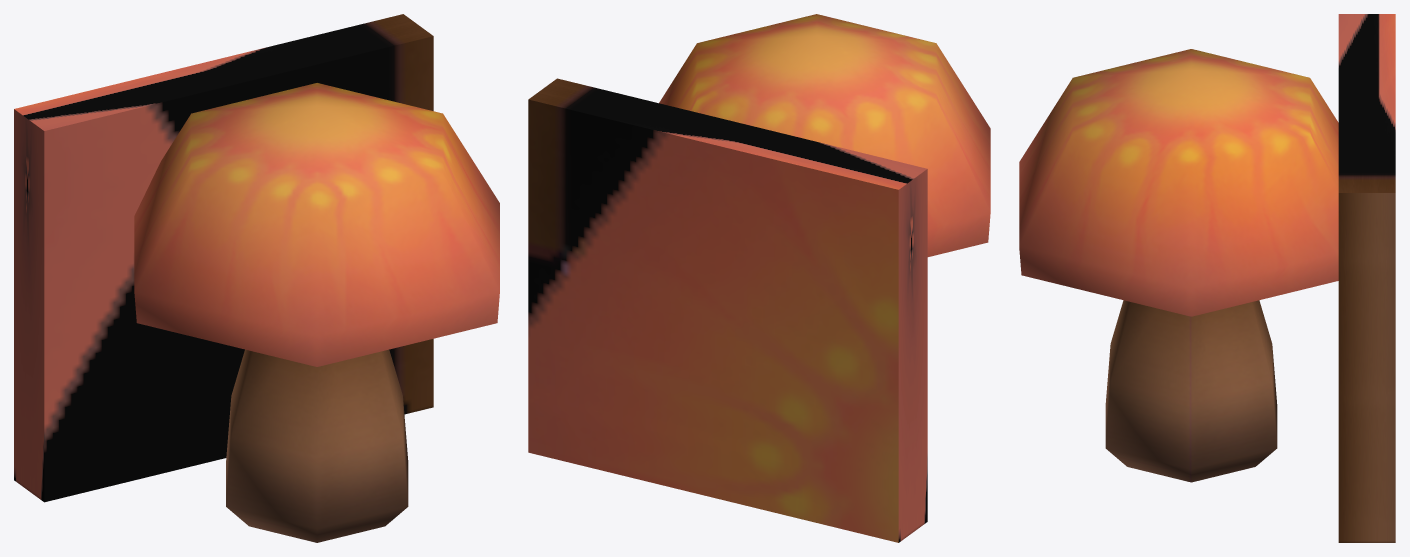
The model's file is MSH_B.fbx.
3 renders of one model, left to right at view 1: azimuth 30°, elevation 25°; view 2: azimuth 150°, elevation 25°; view 3: azimuth 270°, elevation 25°, orthographic. The views are drawn at different scales.
Visible parts, largest first — view 1: mushroomB, pCube1; view 2: pCube1, mushroomB; view 3: mushroomB, pCube1.
Boxes of the visible parts, bbox=[...] form: mushroomB: bbox=[134, 83, 499, 542]; pCube1: bbox=[14, 14, 433, 502]; pCube1: bbox=[528, 78, 927, 542]; mushroomB: bbox=[659, 14, 990, 256]; mushroomB: bbox=[1019, 49, 1338, 482]; pCube1: bbox=[1338, 14, 1395, 542].
Bounding box in the file's own units: 86.61 × 86.32 × 76.98.
